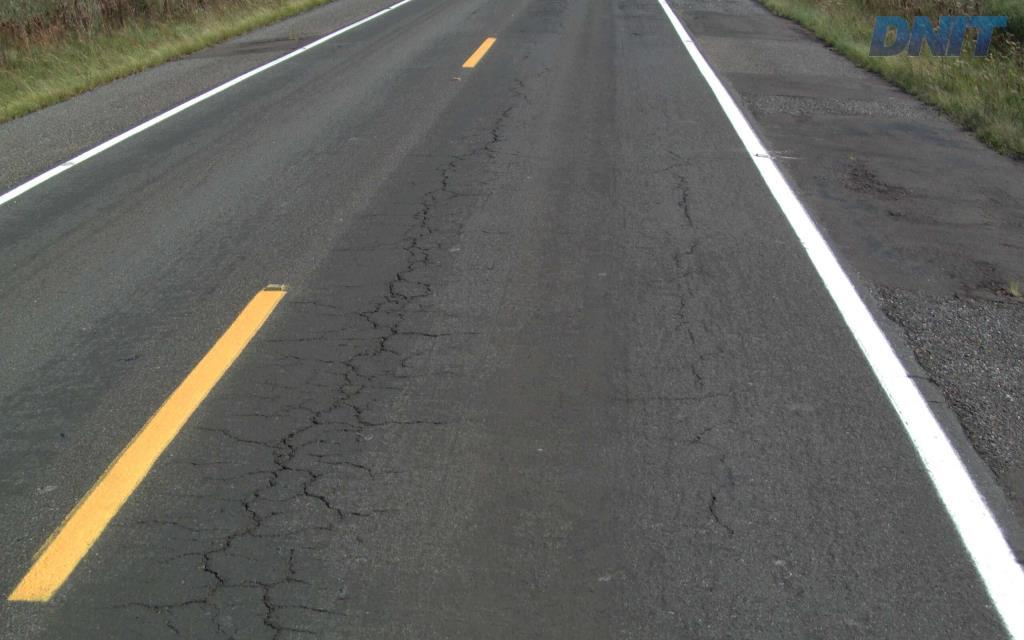crack: (200, 533, 237, 595), (255, 580, 283, 639)
